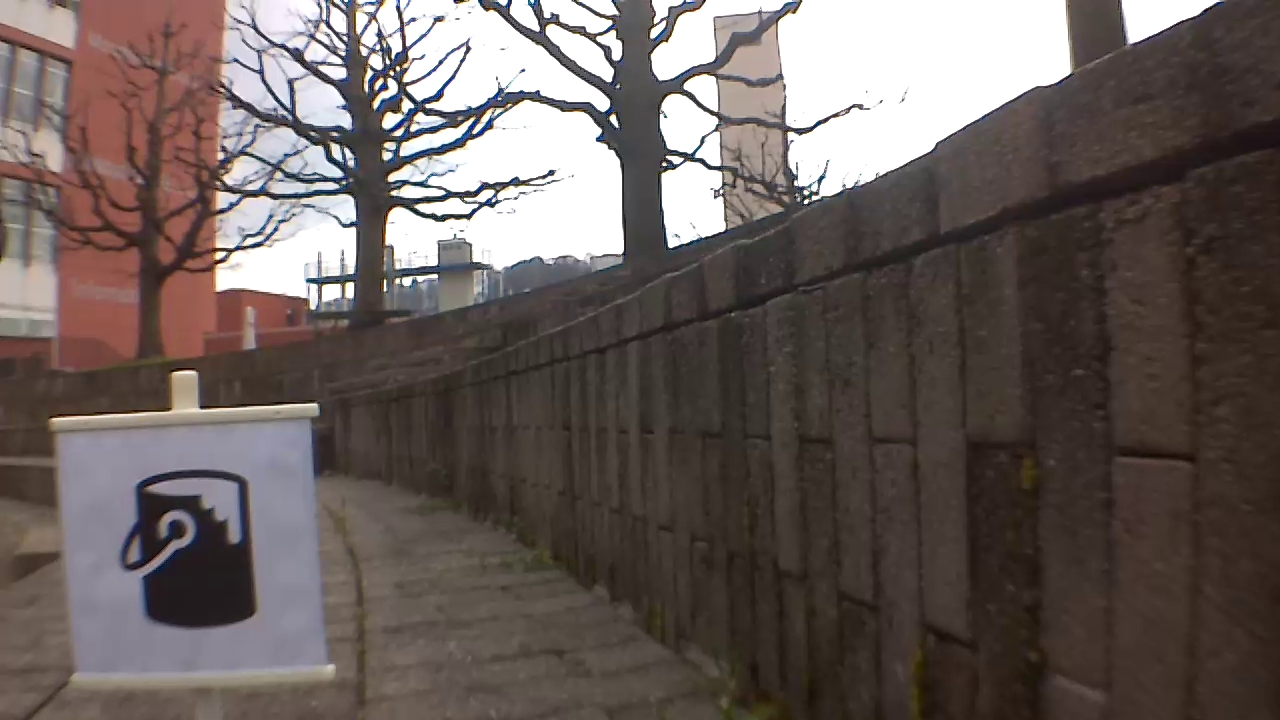bucket: (116, 458, 261, 631)
